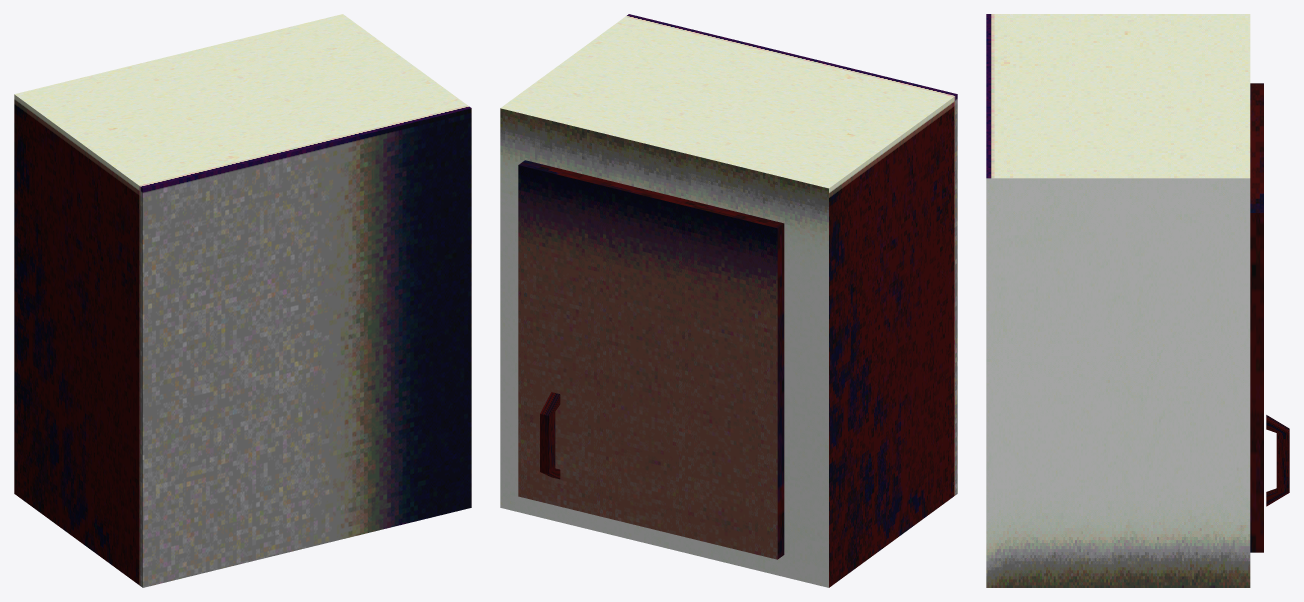
Rendered from UpperSingleCabinet.obj.
3 renders of one model, left to right at view 1: azimuth 30°, elevation 25°; view 2: azimuth 150°, elevation 25°; view 3: azimuth 270°, elevation 25°, orthographic. The views are drawn at different scales.
Parts seen in each view (by area): view 1: Cube.034; view 2: Cube.034; view 3: Cube.034.
Part boxes in pixels (x1,y1,x2,y2): Cube.034: (14, 14, 471, 587); Cube.034: (500, 14, 957, 587); Cube.034: (986, 14, 1289, 587).
Bounding box in the file's own units: 1.61 × 1.87 × 1.26.
